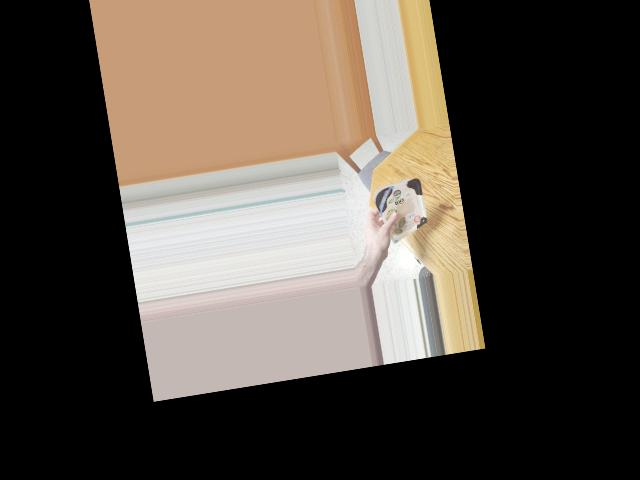cheese: (379, 176, 424, 240)
